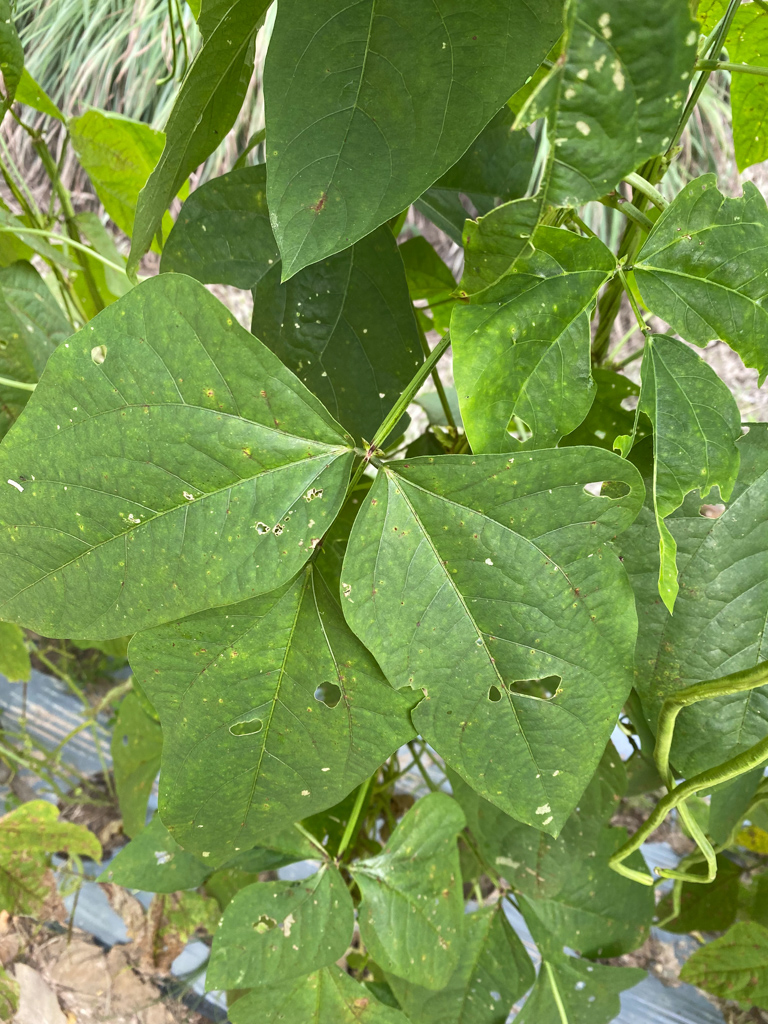Alternaria brassicicola: (381, 464, 548, 591), (189, 365, 297, 473), (196, 633, 266, 682)
